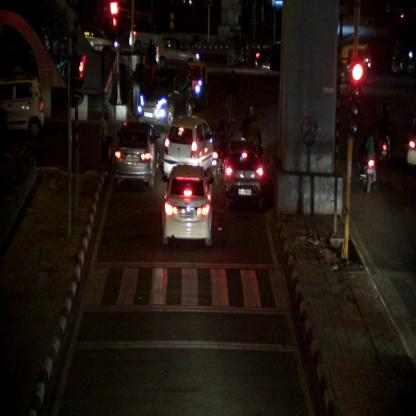car: (162, 163, 214, 248), (114, 120, 160, 189), (164, 115, 215, 176), (138, 69, 190, 124), (223, 140, 262, 209), (1, 76, 44, 138), (154, 37, 196, 66)
motorcycle: (359, 129, 379, 195), (379, 106, 394, 165)
